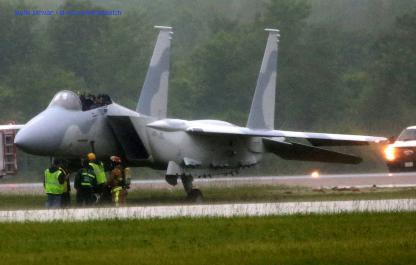F117: (0, 25, 388, 204)
